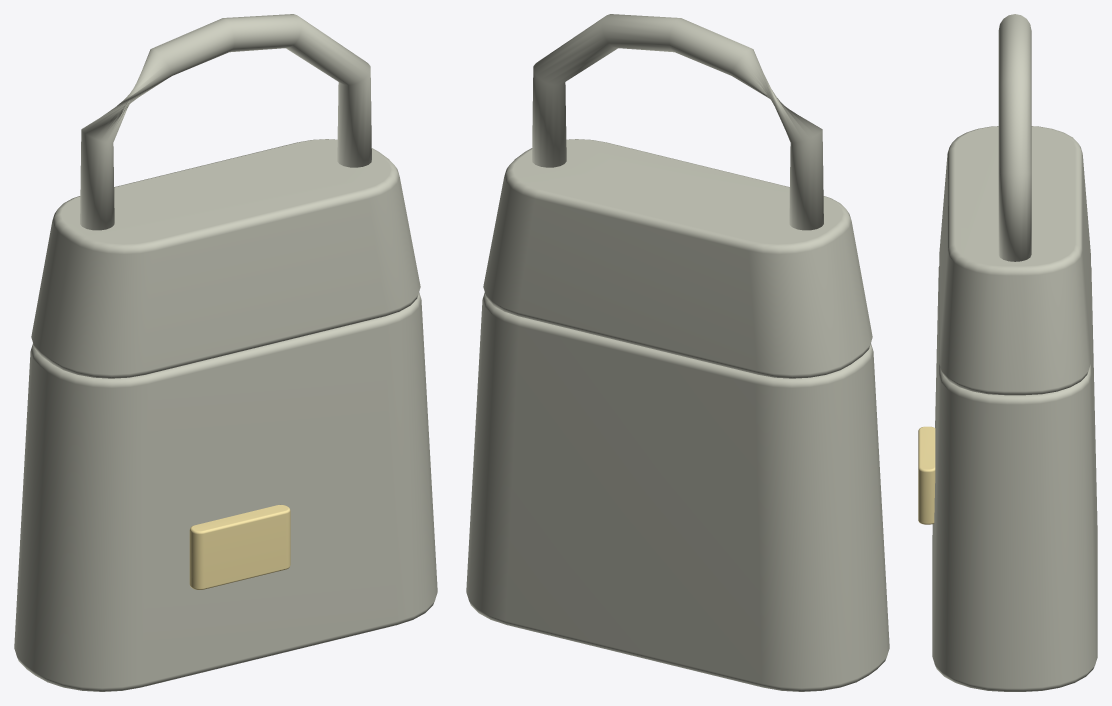
File: case01_sofa_trompeur_spatial_decomposed.glb
3 renders of one model, left to right at view 1: azimuth 30°, elevation 25°; view 2: azimuth 150°, elevation 25°; view 3: azimuth 270°, elevation 25°, orthographic. The views are drawn at different scales.
Visible parts, largest first — view 1: Corps_Principal_Cuir, Rabat_Superieur_Cuir, Anse_Arche_Cuir, Fermoir_Boucle_Laiton; view 2: Corps_Principal_Cuir, Rabat_Superieur_Cuir, Anse_Arche_Cuir; view 3: Corps_Principal_Cuir, Rabat_Superieur_Cuir, Anse_Arche_Cuir, Fermoir_Boucle_Laiton.
Part boxes in pixels (x1,y1,x2,y2): Corps_Principal_Cuir: (14,292,437,691); Rabat_Superieur_Cuir: (31,139,420,378); Anse_Arche_Cuir: (80,14,371,230); Fermoir_Boucle_Laiton: (189,504,290,589); Corps_Principal_Cuir: (466,292,889,691); Rabat_Superieur_Cuir: (483,139,872,378); Anse_Arche_Cuir: (532,14,823,230); Corps_Principal_Cuir: (932,266,1097,691); Rabat_Superieur_Cuir: (939,126,1090,395); Anse_Arche_Cuir: (998,14,1031,261); Fermoir_Boucle_Laiton: (918,426,935,524).
Bounding box in the file's own units: 0.1817 × 0.2681 × 0.0765.
